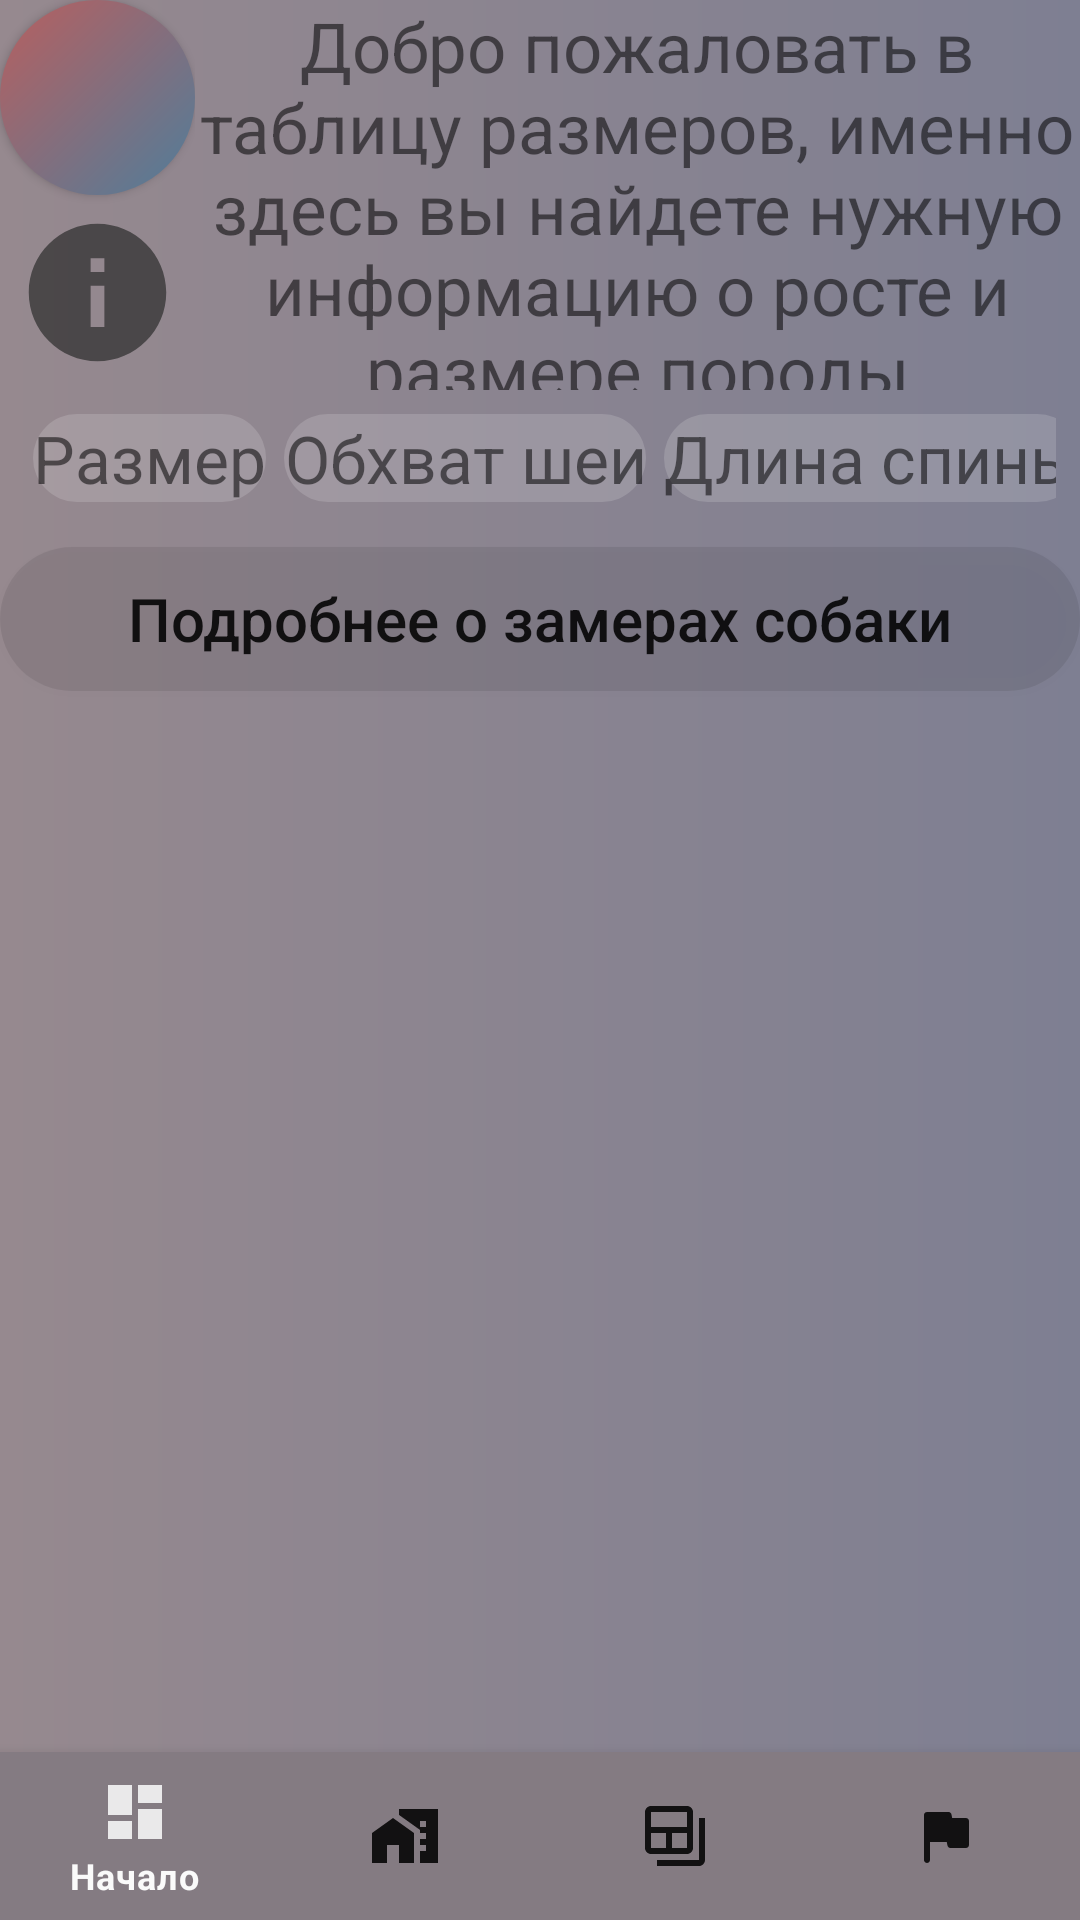

Point at icon controls on the screen. Image size 1080 × 1920, points as point (x, y).
info: point (97, 292)
